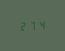four: (37, 19, 45, 30)
seven: (28, 20, 36, 30)
two: (18, 20, 26, 31)
